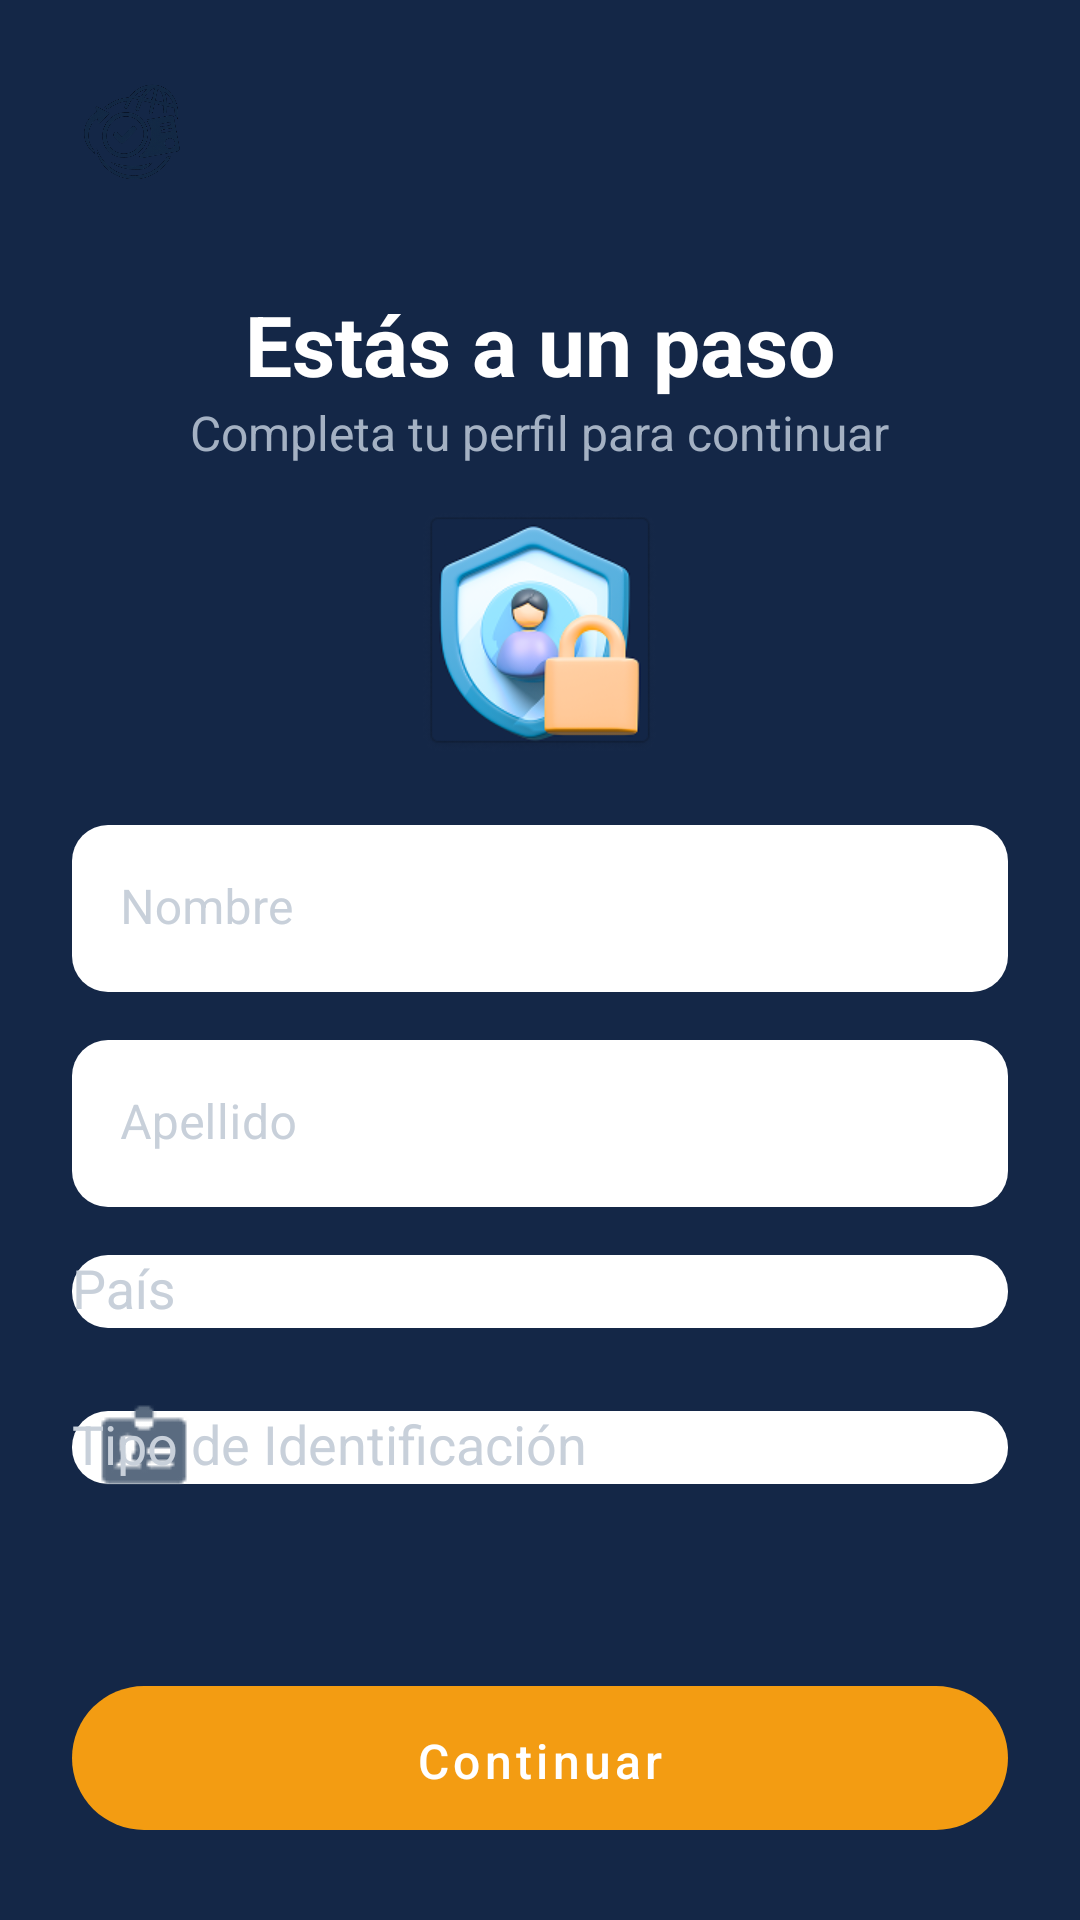

Where icons sit on this 1080×1920 app screen, as {"x1": x1, "y1": y1, "x2": x2, "y2": y2}:
shield lock: {"x1": 440, "y1": 526, "x2": 639, "y2": 740}
